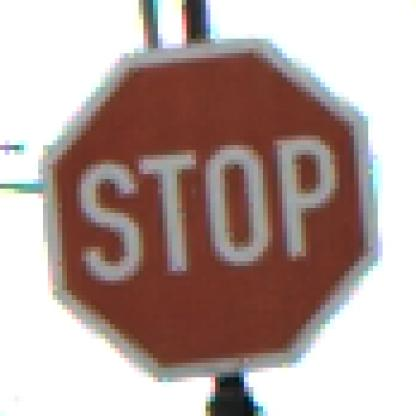stop: (28, 34, 388, 375)
